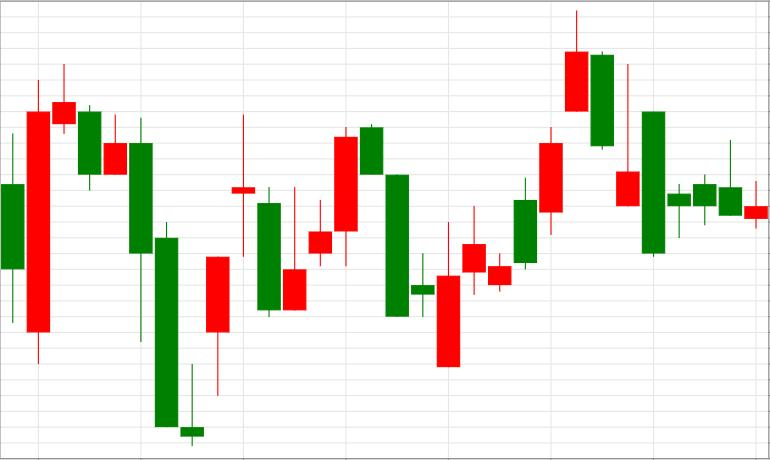morning_star_rise: (53, 64, 229, 447)
